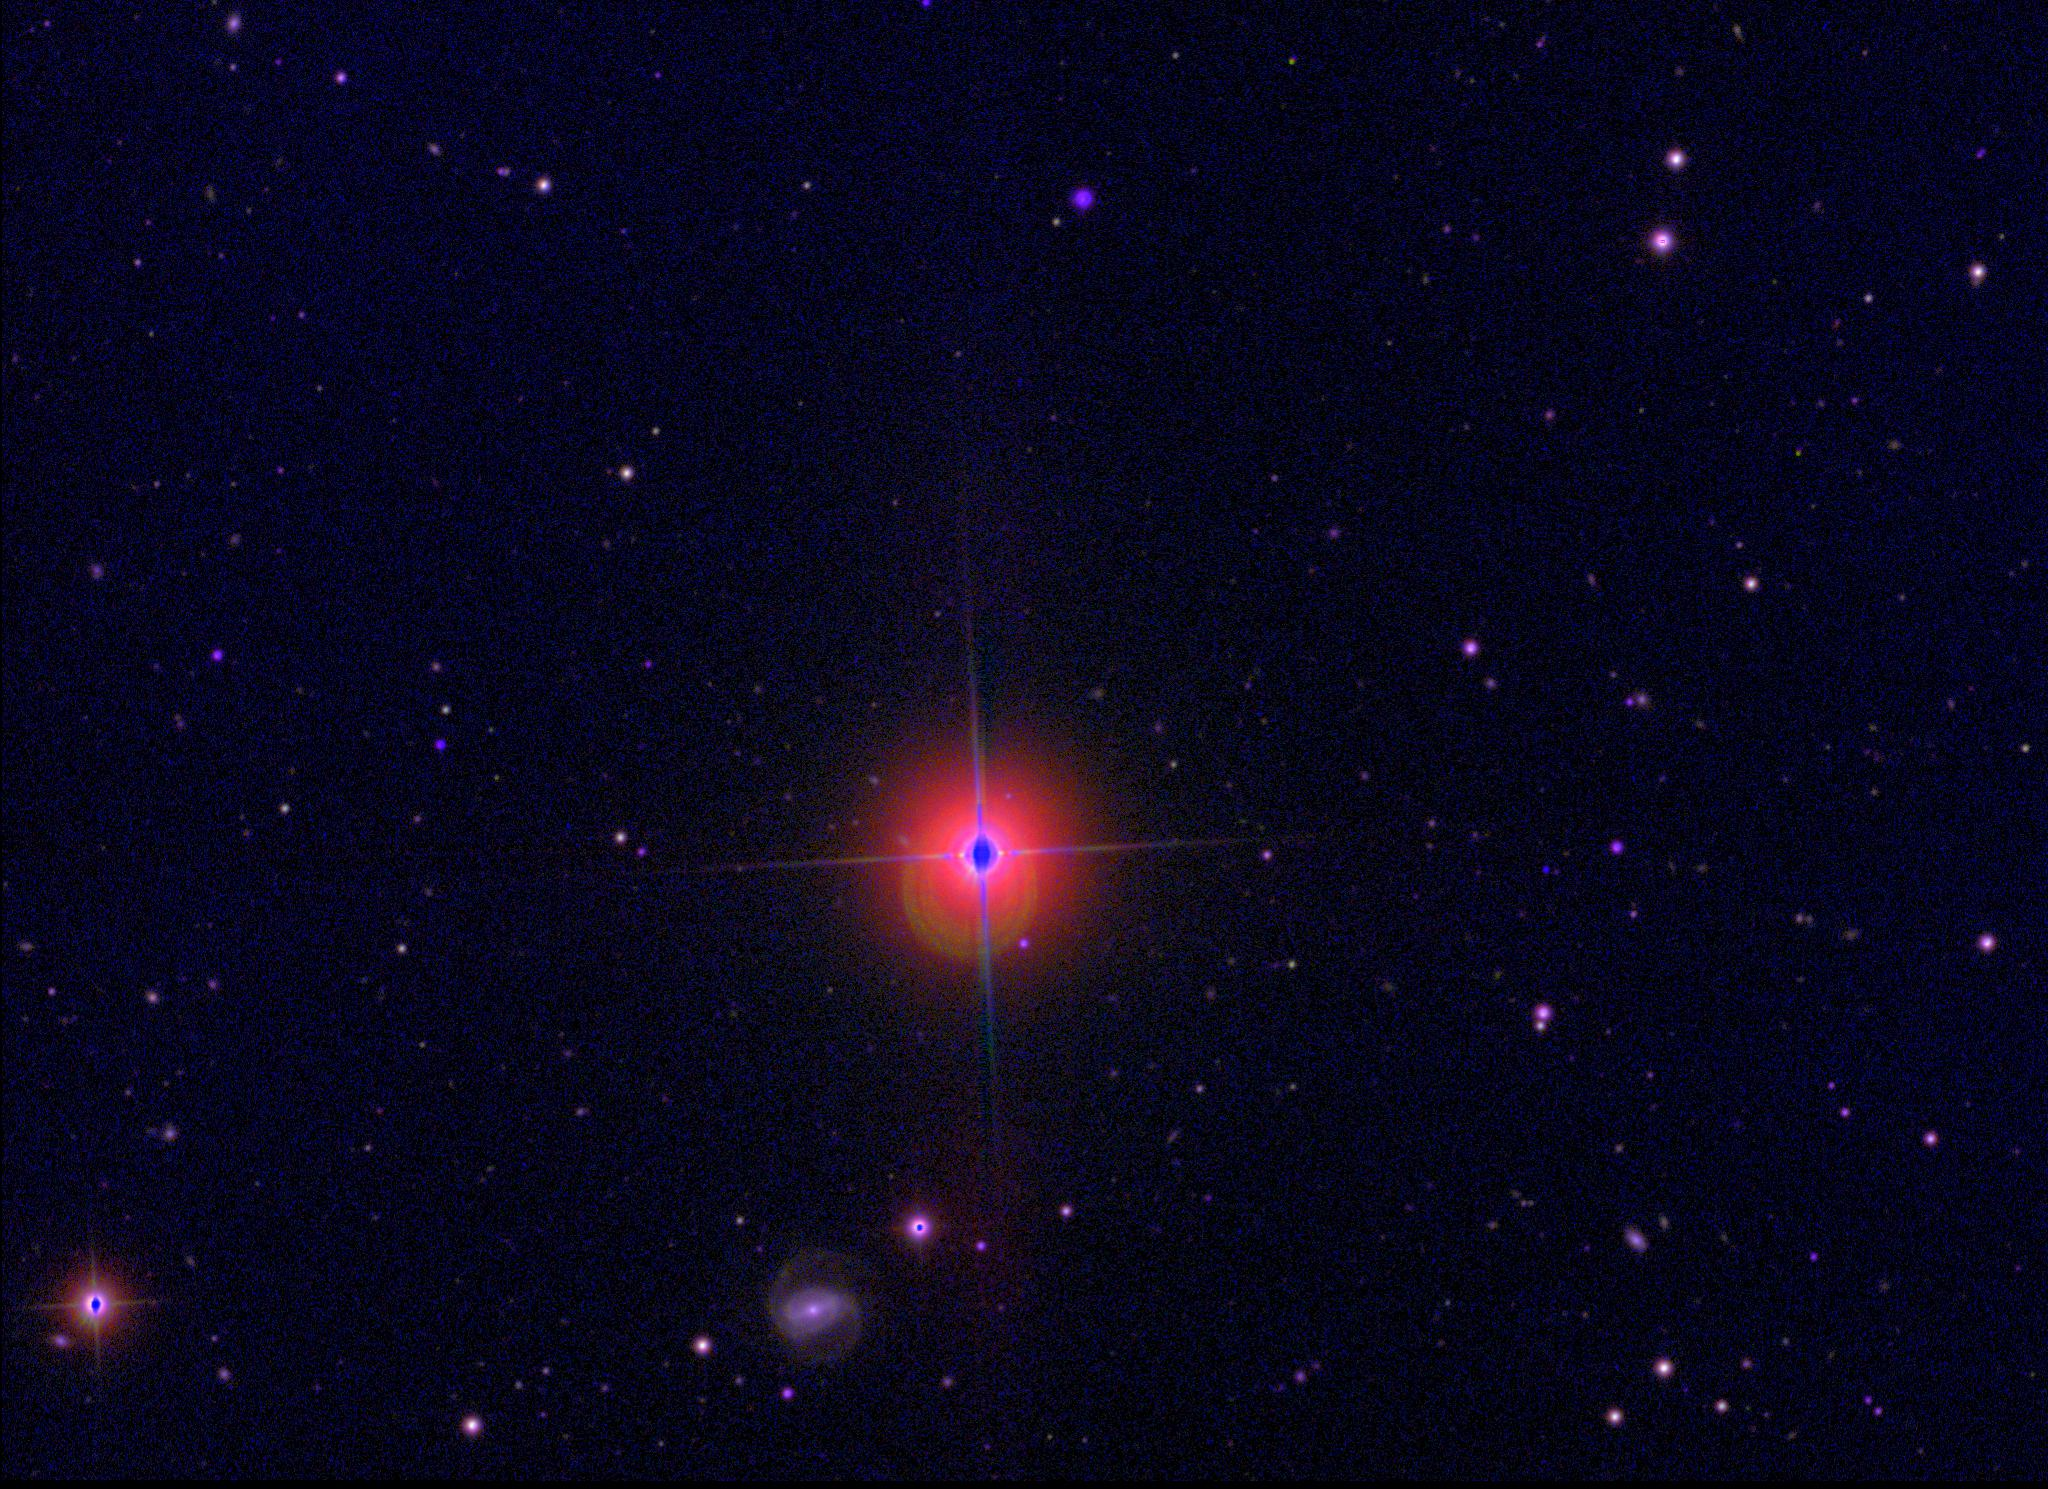L: (1541, 859, 1553, 873)
